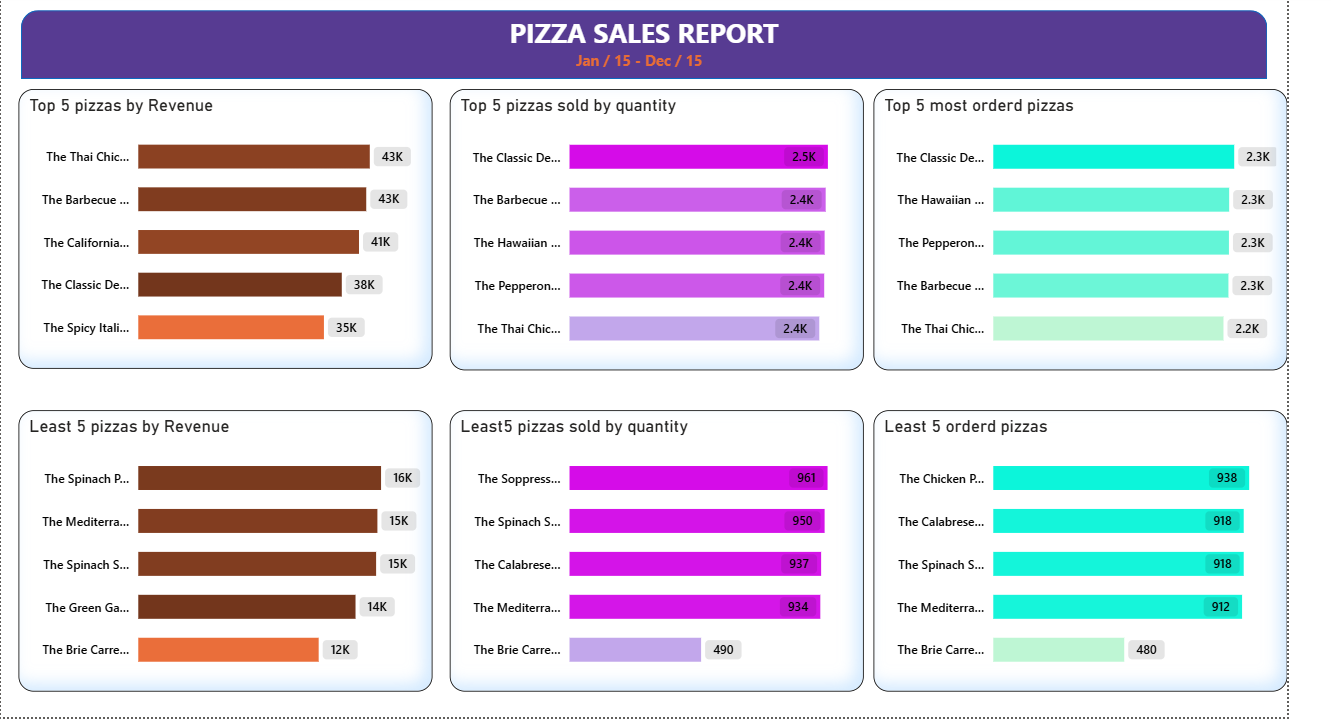

What the dashboard file says about the page in this screenshot:
{"tool":"powerbi","page":{"name":"TOP & BOTTOM","canvas":[1280,720],"ordinal":1},"visuals":[{"type":"barChart","title":"Top 5 pizzas by Revenue","fields":{"Category":["pizza_sales.pizza_name"],"Y":["pizza_sales.Total reveue"]},"box":[17.8,94.7,411.7,278.6],"z":0},{"type":"barChart","title":"Least 5  pizzas by Revenue","fields":{"Category":["pizza_sales.pizza_name"],"Y":["pizza_sales.Total reveue"]},"box":[17.8,414.4,411.7,279.9],"z":1},{"type":"barChart","title":"Top 5 most orderd pizzas","fields":{"Category":["pizza_sales.pizza_name"],"Y":["Count(pizza_sales.order_id)"]},"box":[868.6,94.7,411.7,279.9],"z":2},{"type":"barChart","title":"Least 5  orderd pizzas","fields":{"Category":["pizza_sales.pizza_name"],"Y":["Count(pizza_sales.order_id)"]},"box":[868.6,414.4,411.7,279.9],"z":3},{"type":"barChart","title":"Top 5 pizzas sold by quantity","fields":{"Category":["pizza_sales.pizza_name"],"Y":["Sum(pizza_sales.quantity)"]},"box":[446,94.7,411.7,279.9],"z":4},{"type":"barChart","title":"Least5 pizzas sold by quantity","fields":{"Category":["pizza_sales.pizza_name"],"Y":["Sum(pizza_sales.quantity)"]},"box":[446,414.4,411.7,279.9],"z":5},{"type":"shape","box":[19.9,16.2,1240.2,68.4],"z":6},{"type":"textbox","box":[452.8,14.9,374.4,52.2],"z":7},{"type":"textbox","box":[567.2,51,148,33.6],"z":8}]}

Visuals, with their boxes on the page's 1280x720 design canvas (x1, y1, x2, y2). These are canvas units, not pixel positions in the 1331x720 screenshot, which may show the page scaled, cropped or inside an application window:
"Top 5 pizzas by Revenue" barChart: (x1=18, y1=95, x2=430, y2=373)
"Least 5  pizzas by Revenue" barChart: (x1=18, y1=414, x2=430, y2=694)
"Top 5 most orderd pizzas" barChart: (x1=869, y1=95, x2=1280, y2=375)
"Least 5  orderd pizzas" barChart: (x1=869, y1=414, x2=1280, y2=694)
"Top 5 pizzas sold by quantity" barChart: (x1=446, y1=95, x2=858, y2=375)
"Least5 pizzas sold by quantity" barChart: (x1=446, y1=414, x2=858, y2=694)
shape: (x1=20, y1=16, x2=1260, y2=85)
textbox: (x1=453, y1=15, x2=827, y2=67)
textbox: (x1=567, y1=51, x2=715, y2=85)
